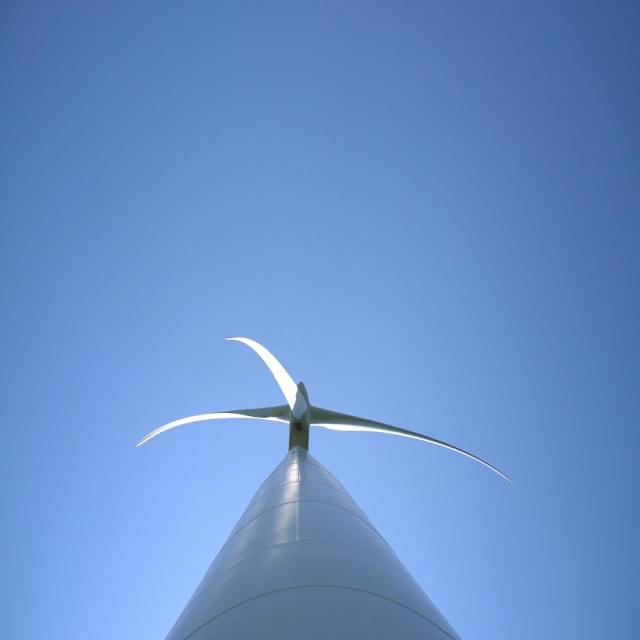blade 1: (87, 382, 278, 450)
blade 2: (224, 312, 284, 371)
blade 3: (356, 398, 518, 488)
